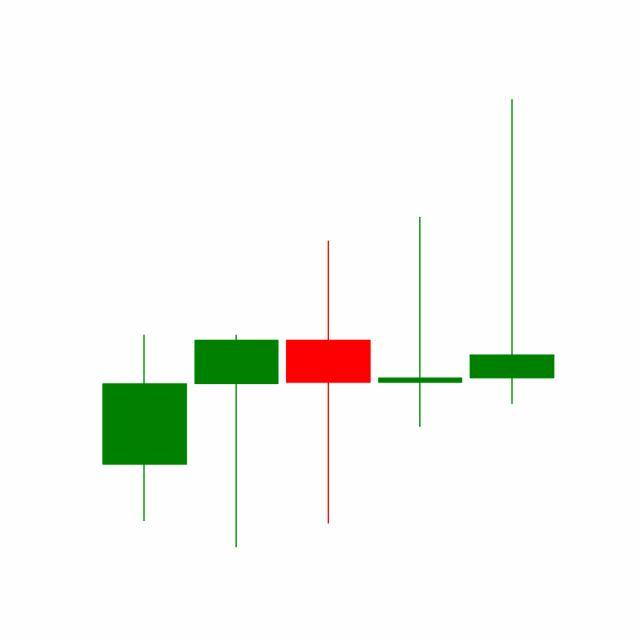Spinning Top: (466, 96, 559, 407)
